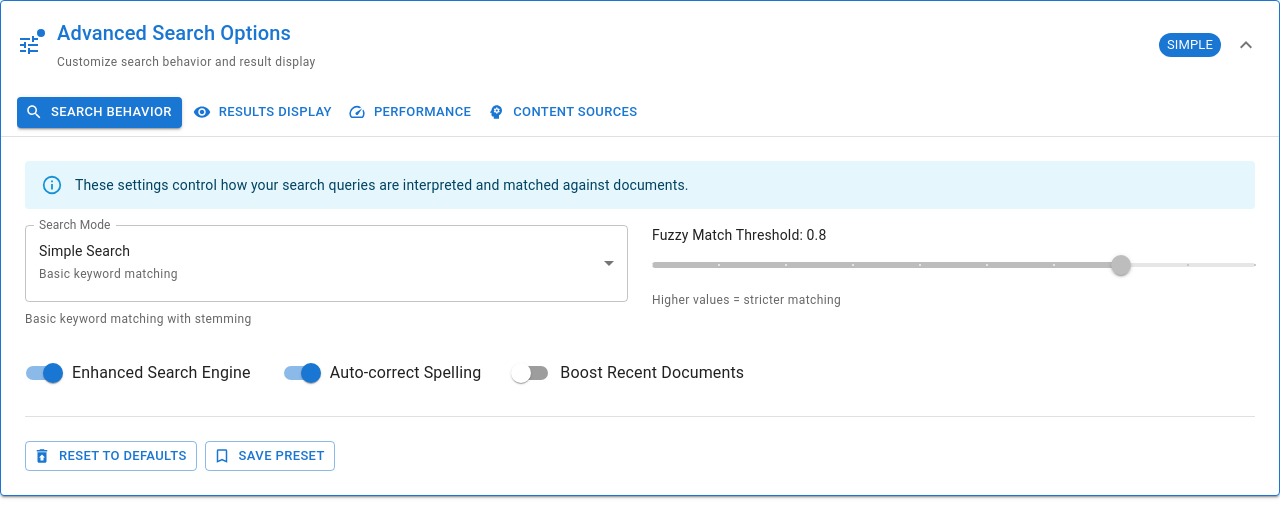
Scenario: AdvancedSearchPanel › shows content sources settings
Click the button "Content Sources": coordinates (563, 112) [484, 97, 642, 128]
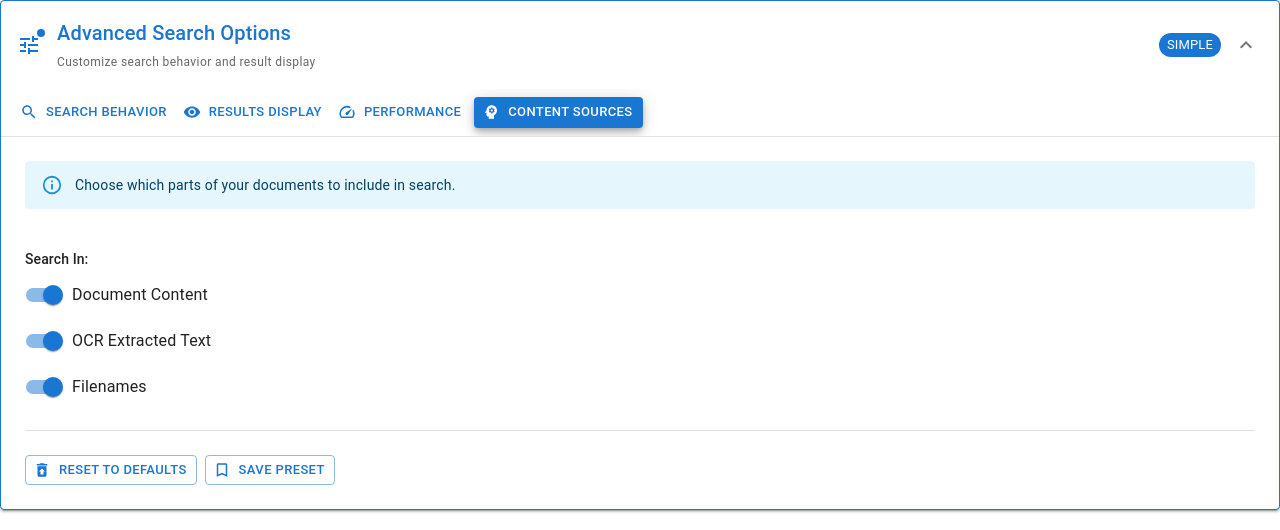
Expected: the switch labelled "Document Content" is checked, [26, 285, 208, 305]
Expected: the switch labelled "Filenames" is checked, [26, 377, 147, 397]
